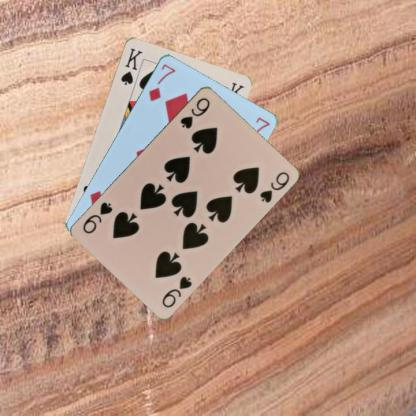7d: (146, 61, 176, 103)
9s: (159, 273, 194, 309), (178, 95, 212, 130)
Ks: (118, 45, 144, 86)
